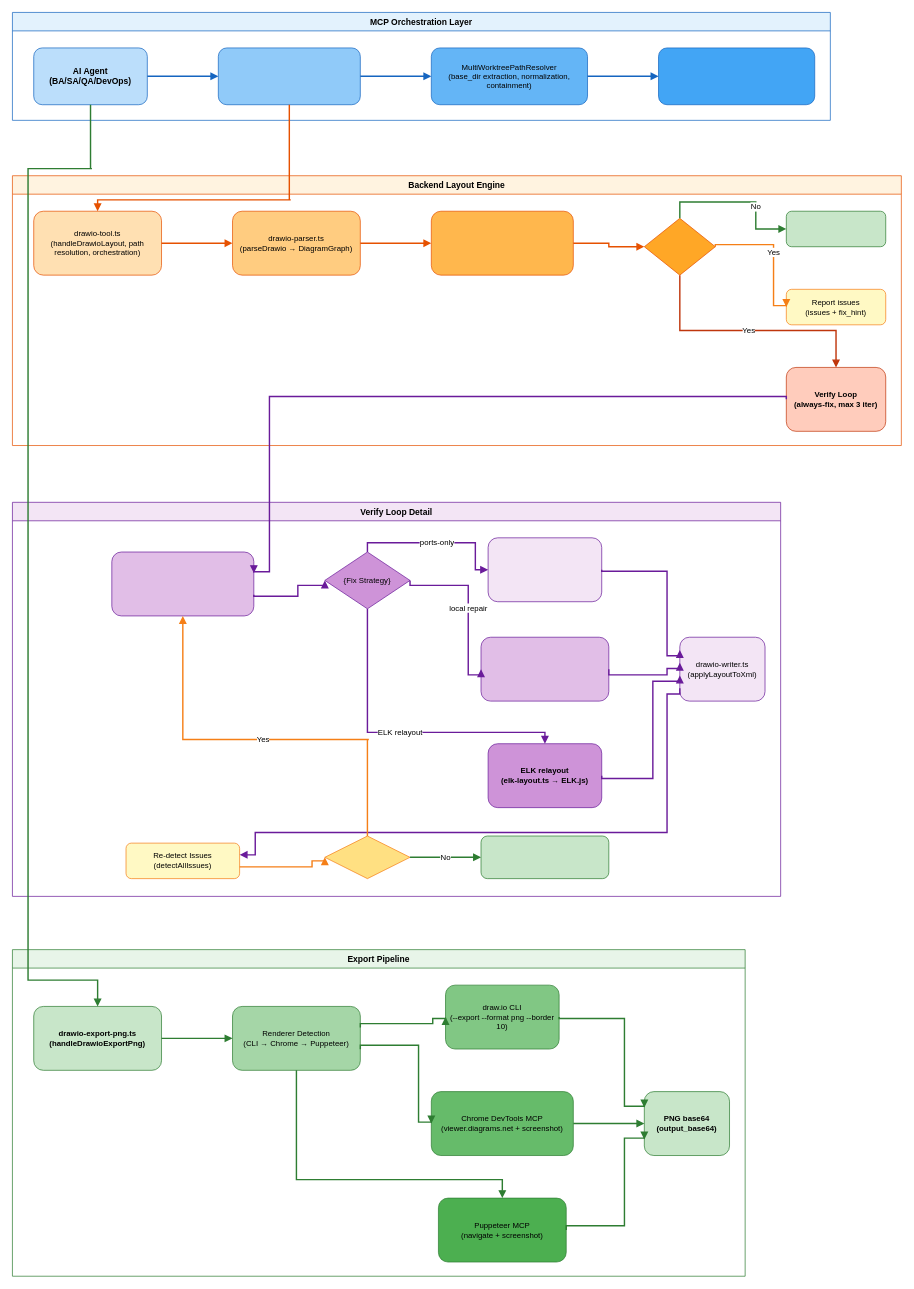
Some shapes in this 914 by 1289 pixel diagram are drawn without their labels. The centre of each missing label's shape, as x and y in pixels:
"drawio-apply.ts (Fix Orchestrator + Verify Loop)" goes at [182,583].
"drawio-detection.ts (detectAllIssues: overlaps, crossings, diagonals)" goes at [502,243].
"Extension MCP Bridge (find_tools / execute_dynamic_tool)" goes at [289,76].
"local repair (drawio-repair + drawio-router)" goes at [544,669].
"ports-only (applyPortDistribution)" goes at [544,569].
"Return fixed/partial with iteration_history" goes at [544,857].
"status=already_good" goes at [836,229].
"WorkspaceAllowlist (MCP_WORKSPACE_ROOTS, O(1) membership, win32 case-fold)" goes at [736,76].
"{Issues?}" goes at [679,246].
"{Iteration < 3?}" goes at [367,857].
